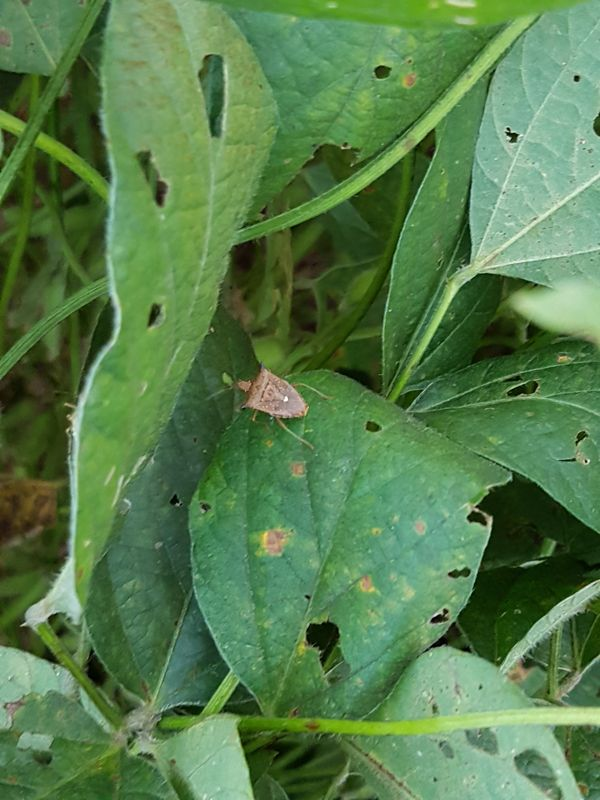Euschistus_heros_adulto: (223, 353, 339, 455)
